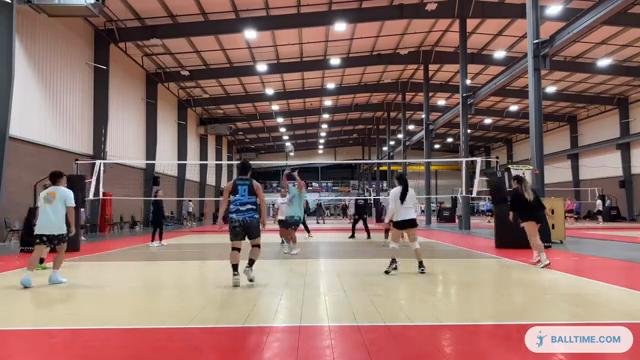difesa: (275, 166, 305, 256)
